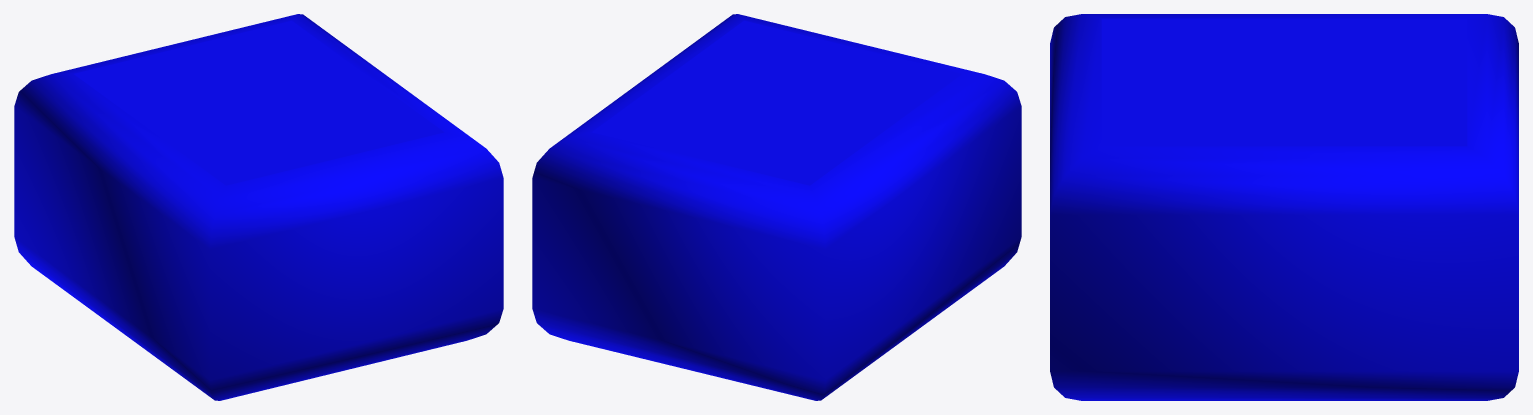
The picture shows the model from 3 angles, left to right: view 1: azimuth 30°, elevation 25°; view 2: azimuth 150°, elevation 25°; view 3: azimuth 270°, elevation 25°; orthographic projection. The views are drawn at different scales.
Parts seen in each view (by area): view 1: 46; view 2: 46; view 3: 46.
Part boxes in pixels (bbox=[...]): 46: bbox=[14, 14, 503, 400]; 46: bbox=[532, 14, 1021, 400]; 46: bbox=[1050, 14, 1518, 400].
Bounding box in the file's own units: 0.2354 × 0.16 × 0.2723.
